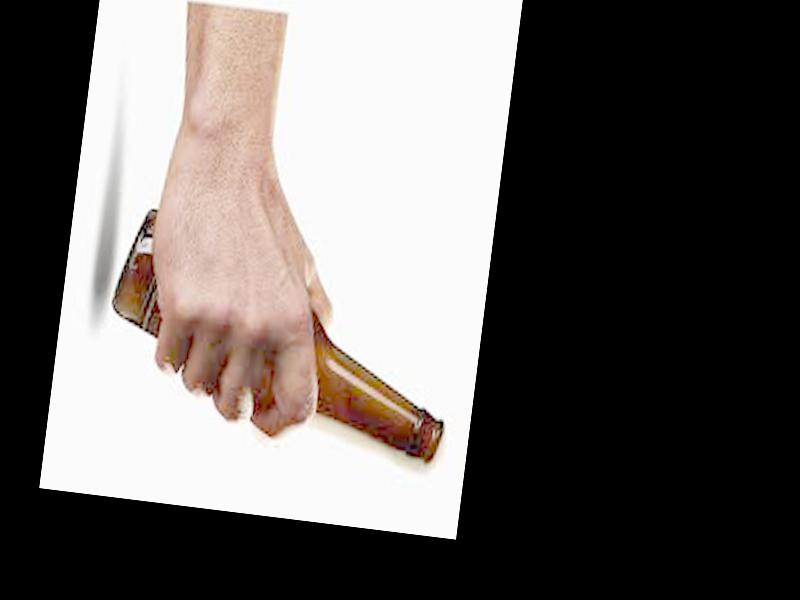Beer: (92, 205, 465, 465)
